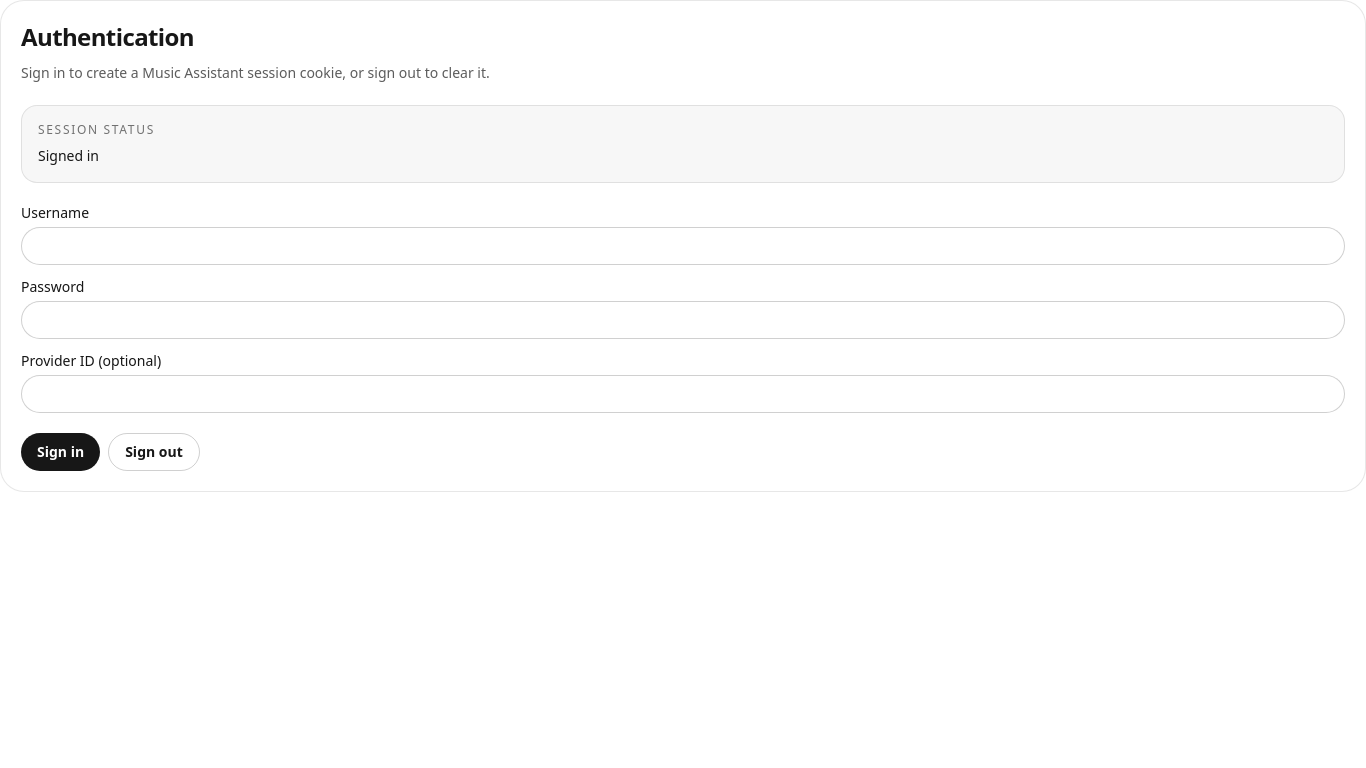
Test case: AuthSessionPanel › signs out successfully
Click the button "Sign out": point(154, 452) [108,433,200,471]
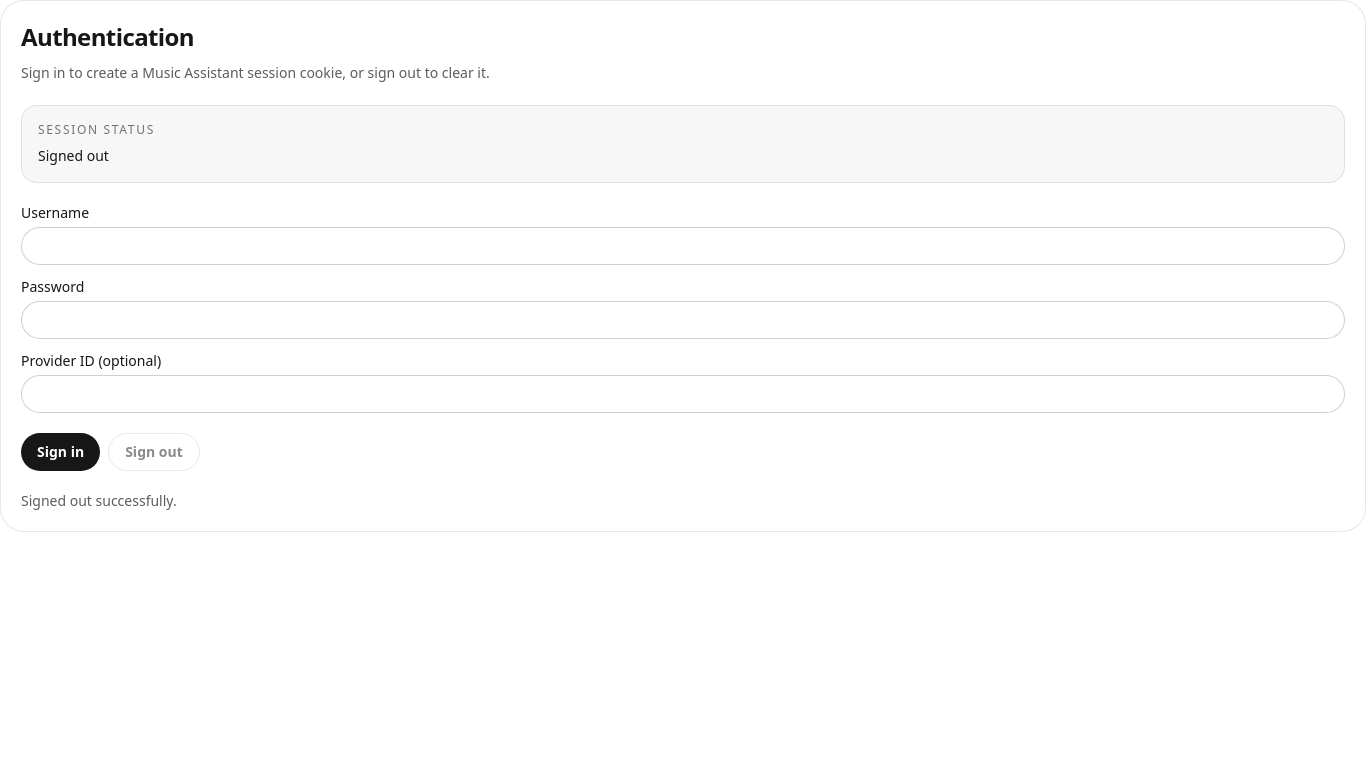
Result: the text "Signed out successfully." is shown at [21,491,177,510]
Result: the text "Signed out" is shown at [38,146,109,165]
